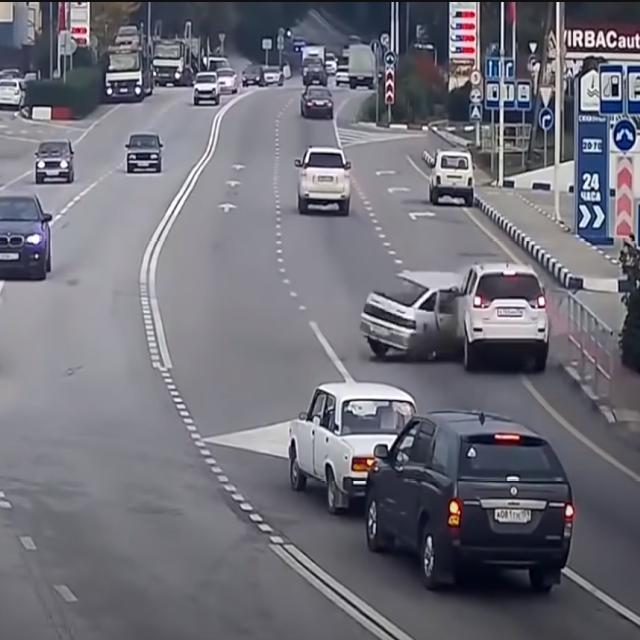accident: (359, 259, 553, 373)
non-accident: (287, 384, 575, 598), (104, 24, 186, 104), (300, 44, 338, 120), (193, 65, 241, 108)
